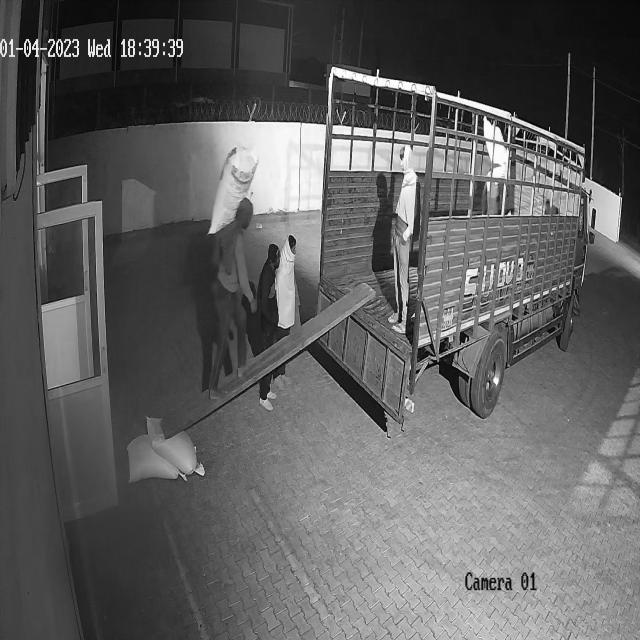sack: (208, 145, 258, 234), (145, 415, 198, 475), (126, 434, 183, 483)
